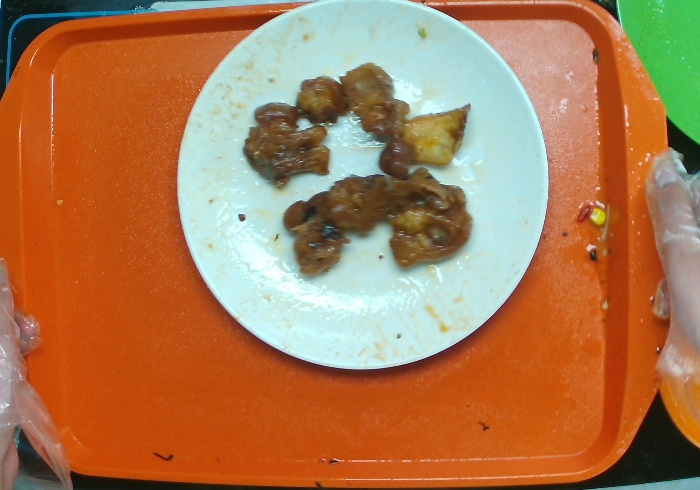HZYJPL-Bai_Se_Yuan_Pan: (177, 1, 551, 376)
